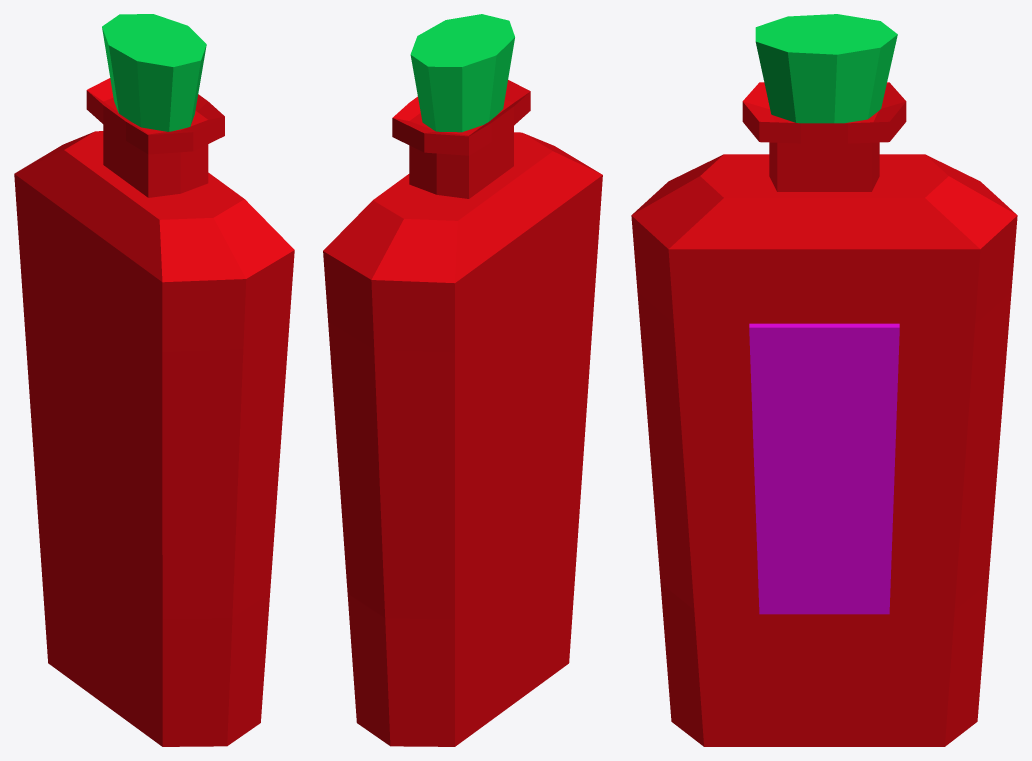
File: Low-Bottle-2.fbx
3 views of the same model, side by side, from view 1: azimuth 30°, elevation 25°; view 2: azimuth 150°, elevation 25°; view 3: azimuth 270°, elevation 25° (orthographic). The views are drawn at different scales.
Parts seen in each view (by area): view 1: Low-Bottle_2, Low-Kork-2; view 2: Low-Bottle_2, Low-Kork-2; view 3: Low-Bottle_2, Low-Etikett-2, Low-Kork-2.
Boxes of the visible parts, <box> form: Low-Bottle_2: <box>14,78,294,746</box>; Low-Kork-2: <box>102,14,206,131</box>; Low-Bottle_2: <box>323,80,602,746</box>; Low-Kork-2: <box>410,14,514,132</box>; Low-Bottle_2: <box>631,82,1017,746</box>; Low-Etikett-2: <box>749,323,899,614</box>; Low-Kork-2: <box>755,14,897,123</box>.
Bounding box in the file's own units: 112 × 510 × 260.
